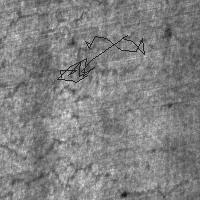crazing: (1, 106, 129, 188), (1, 47, 136, 101), (57, 35, 144, 82)
